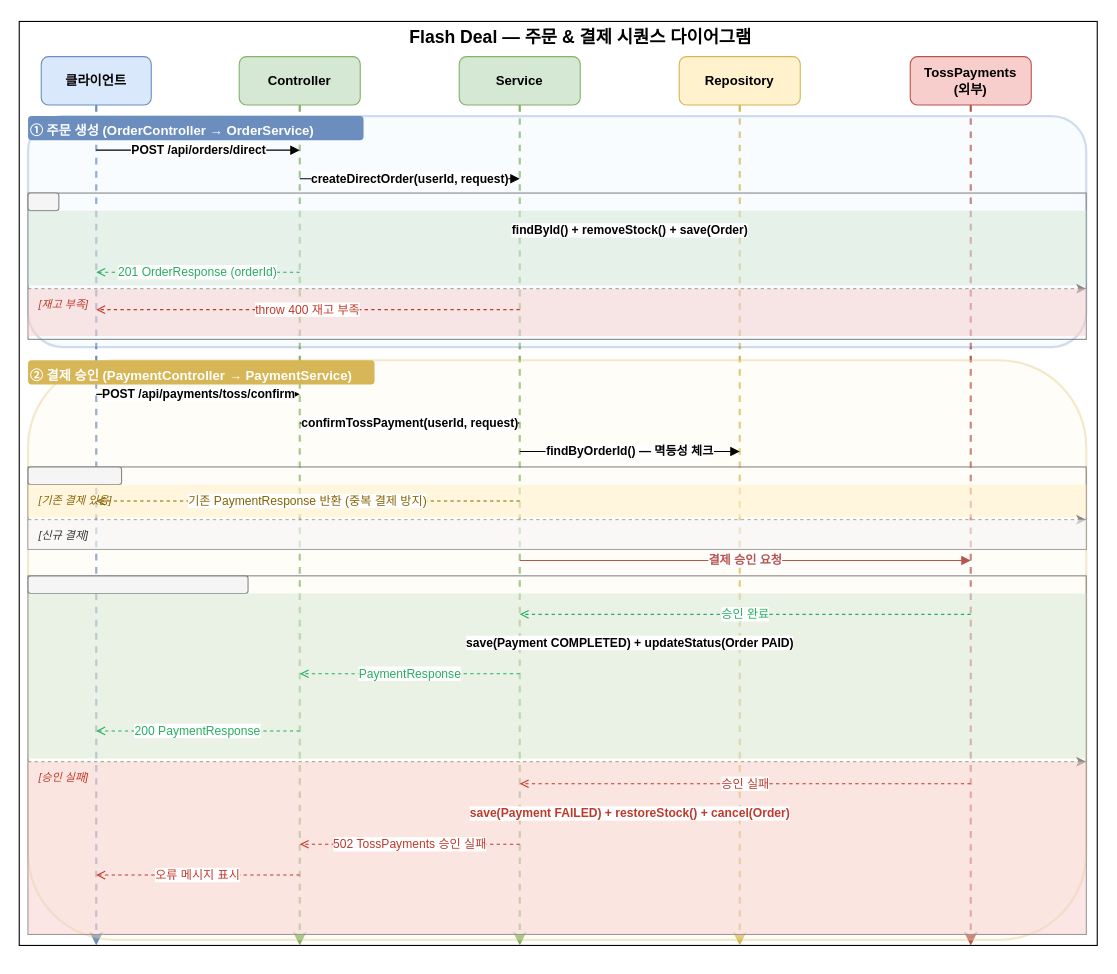
The diagram is 1117 pixels wide and 974 high, and some of its shapes have lost their labels. Here are the shapes that lost their labels. From the top down, the centre of each, then its label:
At point (43, 201): "alt".
At point (557, 247): "[재고 충분]".
At point (74, 475): "alt (멱등성)".
At point (137, 584): "alt (TossPayments 승인 결과)".
At point (557, 675): "[승인 성공]".
